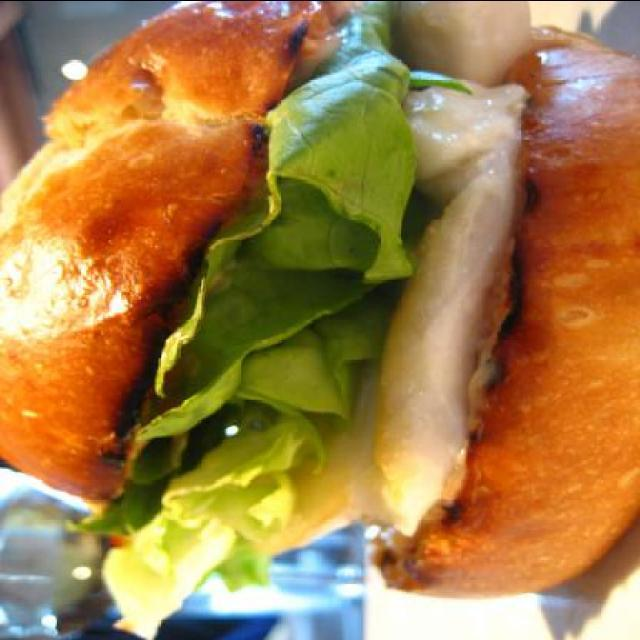Hamburger: (0, 2, 638, 640)
